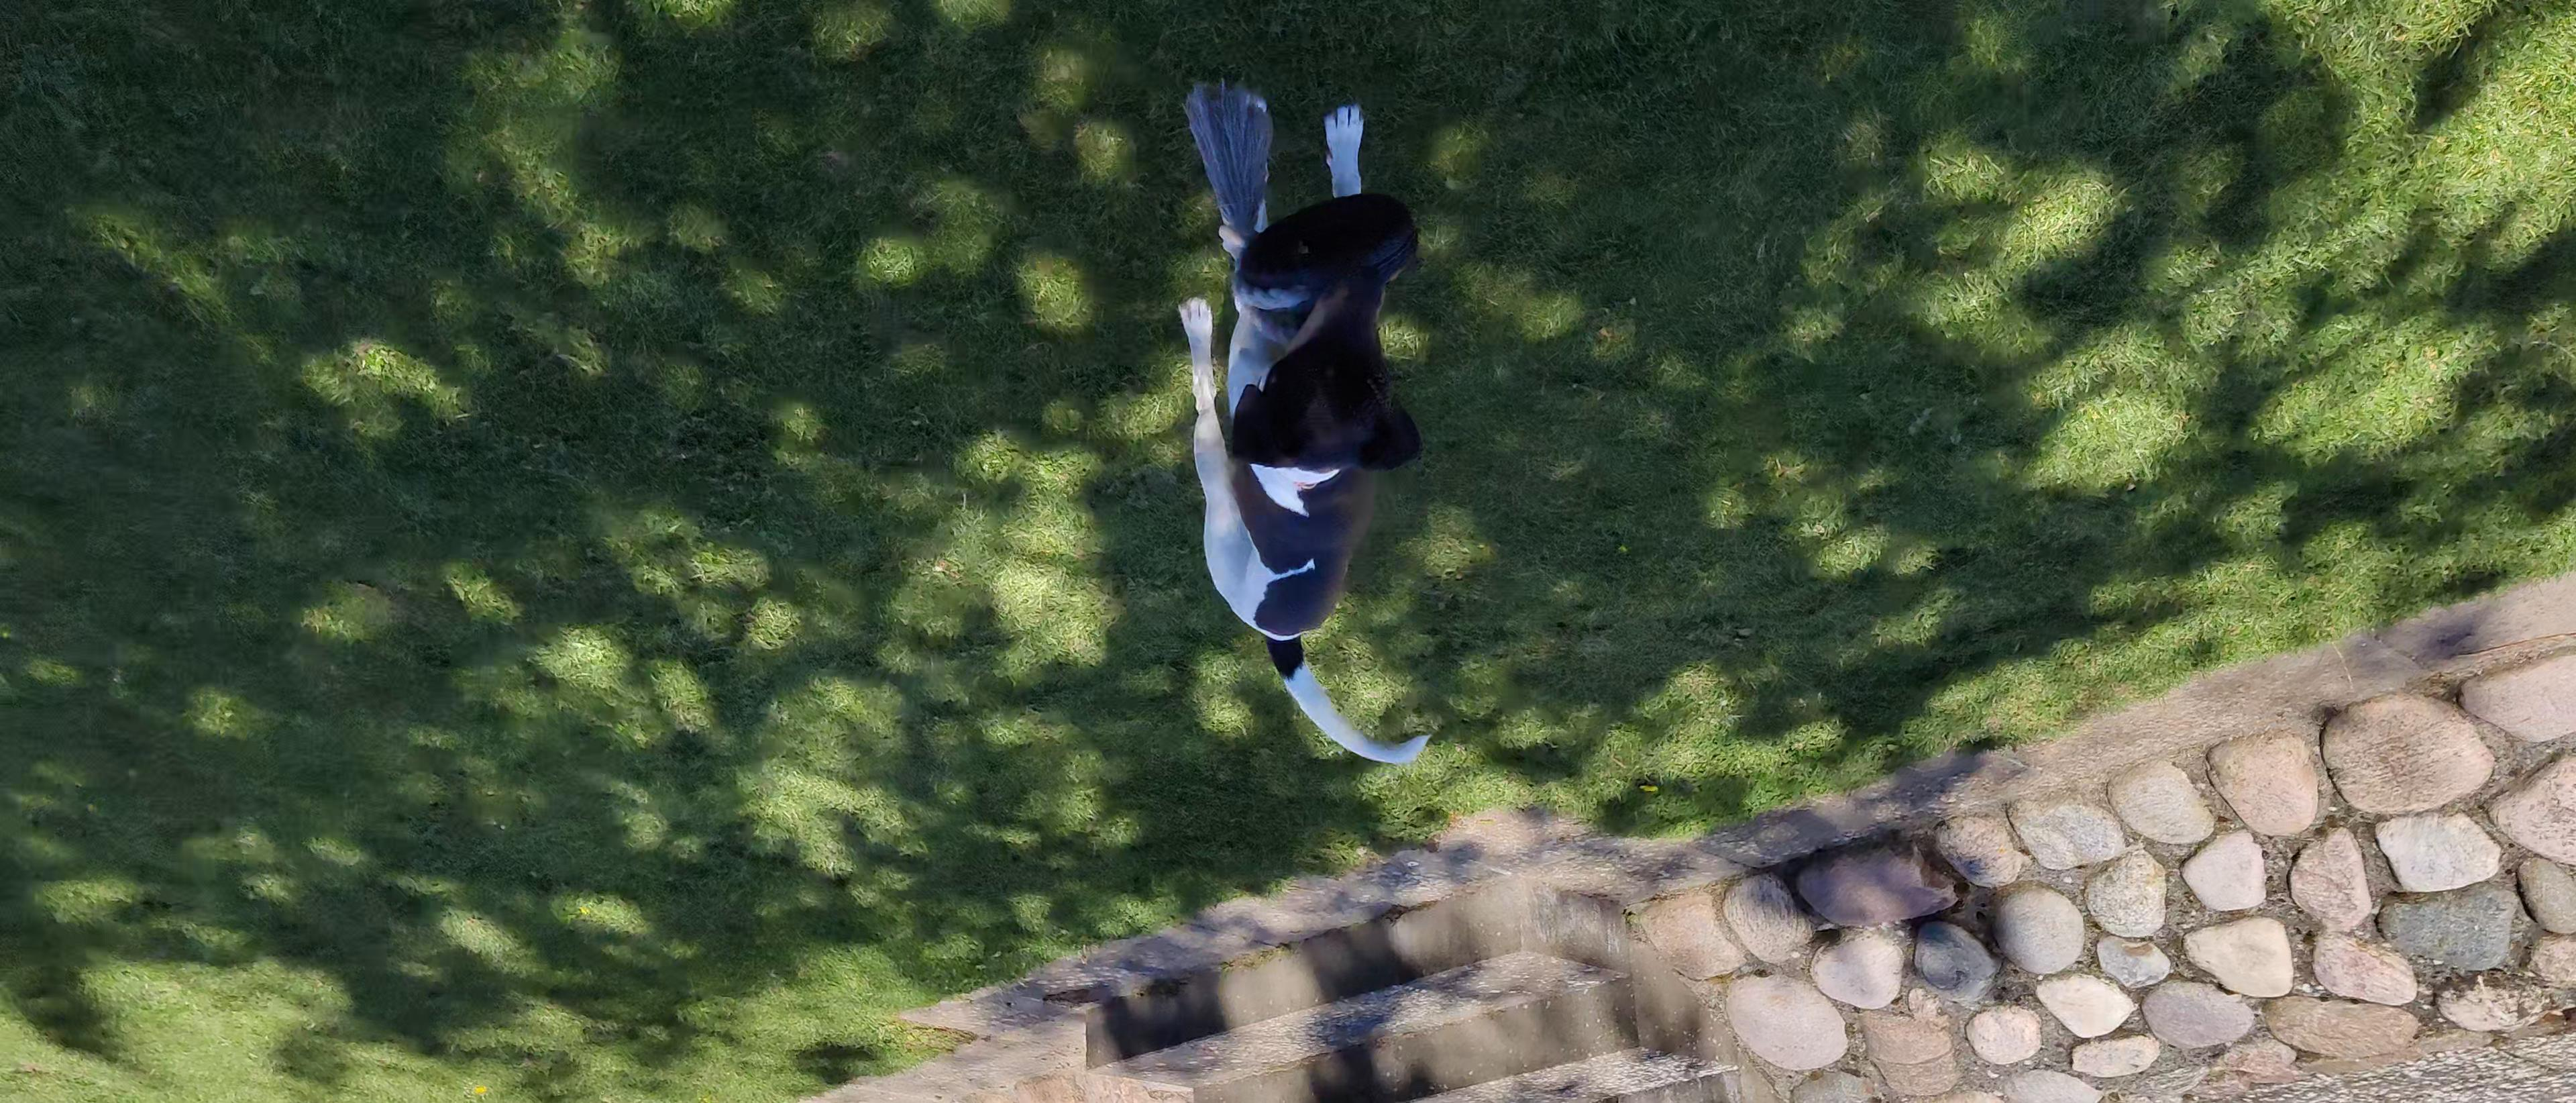Dog: (1134, 62, 1442, 771)
